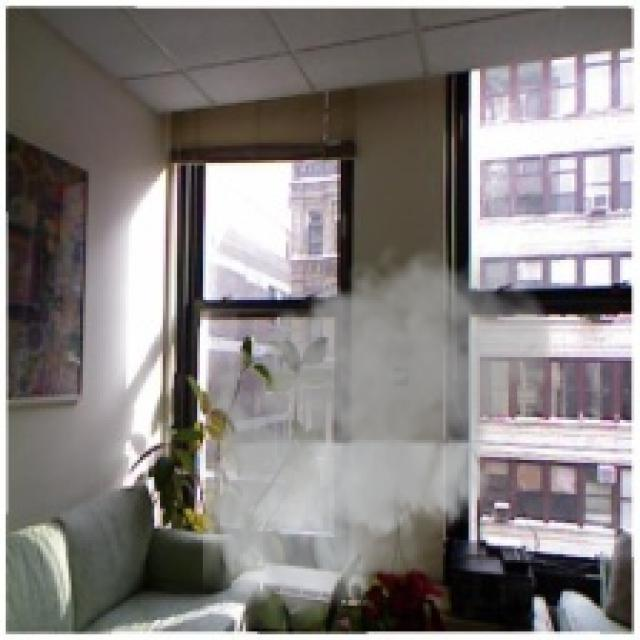smoke: (189, 234, 560, 629)
